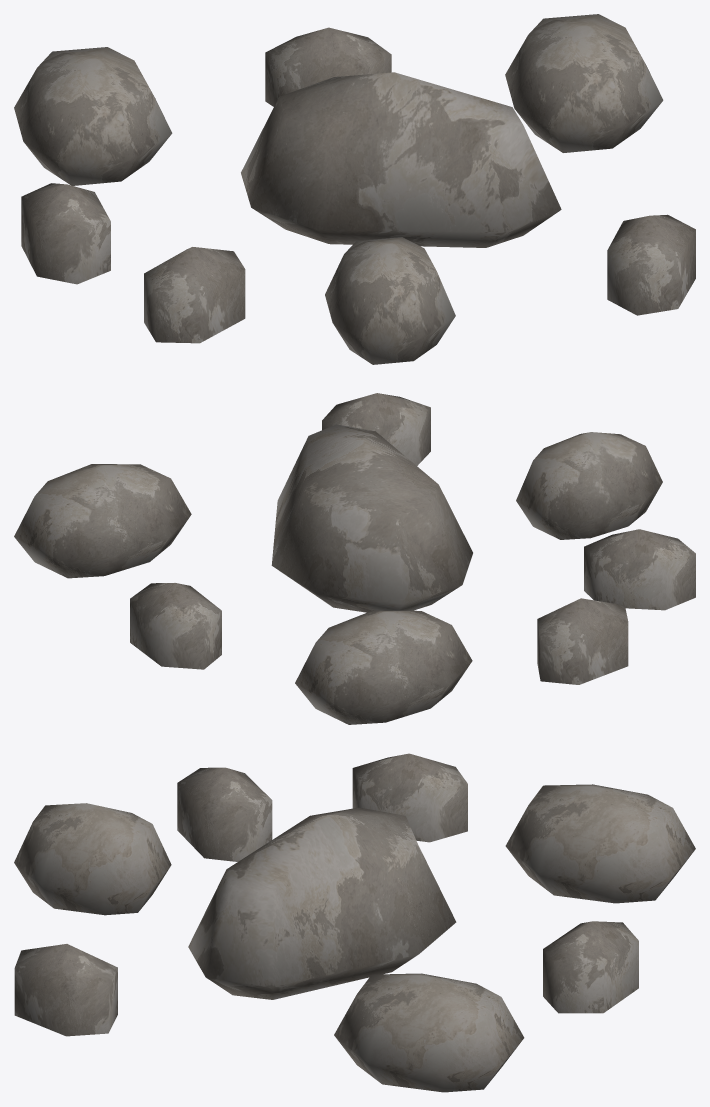
Rendered from Debris_Pile.fbx.
3 renders of one model, top to bottom at view 1: azimuth 30°, elevation 25°; view 2: azimuth 150°, elevation 25°; view 3: azimuth 270°, elevation 25°, orthographic. The views are drawn at different scales.
Visible parts, largest first — view 1: Debris (×8); view 2: Debris (×8); view 3: Debris (×8).
Part boxes in pixels (x1,y1,x2,y2): Debris (×8): [14, 14, 695, 364]; Debris (×8): [14, 393, 695, 724]; Debris (×8): [14, 753, 695, 1092].
Size of the model in its own units: 272 by 60 by 261.
